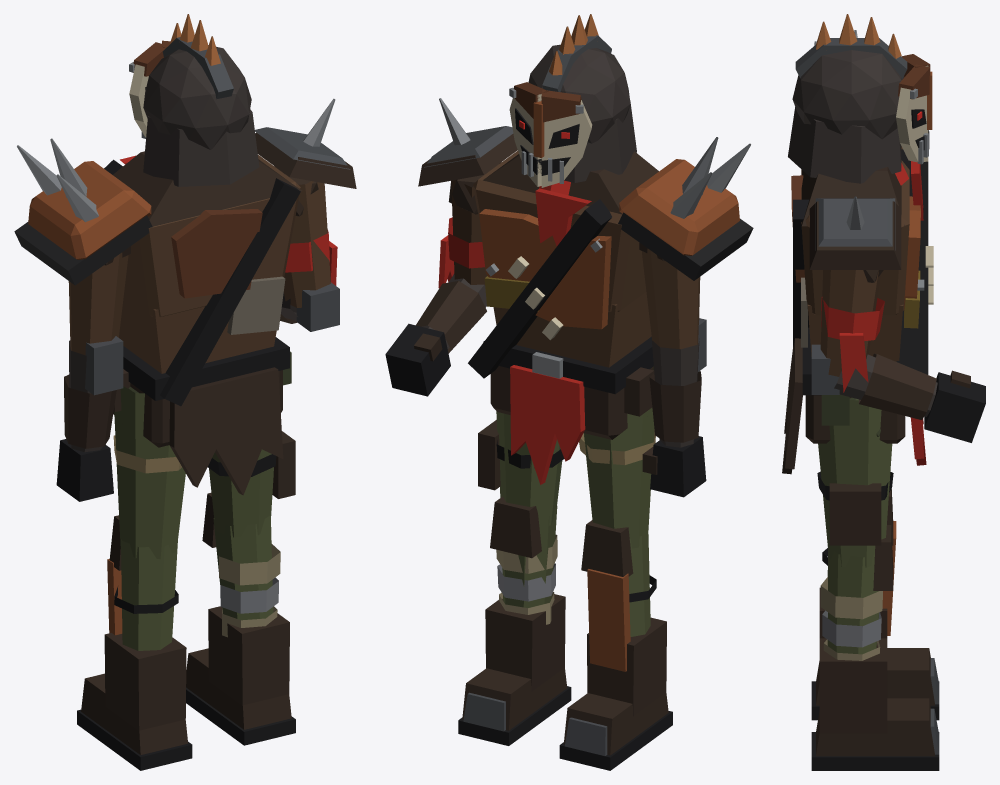
File: raider.fbx
3 views of the same model, side by side, from view 1: azimuth 30°, elevation 25°; view 2: azimuth 150°, elevation 25°; view 3: azimuth 270°, elevation 25° (orthographic). The views are drawn at different scales.
Parts seen in each view (by area): view 1: Torso, Leg_L, Arm_L, Leg_R, Head, Arm_R; view 2: Torso, Leg_L, Arm_L, Leg_R, Head, Arm_R; view 3: Leg_R, Arm_R, Torso, Head, Leg_L.
Boxes of the visible parts, box(x1,y1,x2,y2) form: Torso: box(104, 151, 302, 495); Leg_L: box(77, 386, 192, 770); Arm_L: box(14, 138, 152, 501); Leg_R: box(186, 431, 295, 745); Head: box(129, 14, 259, 186); Arm_R: box(255, 98, 356, 331); Torso: box(468, 150, 658, 484); Leg_L: box(559, 366, 672, 770); Arm_L: box(618, 137, 753, 497); Leg_R: box(458, 411, 571, 745); Head: box(509, 14, 636, 187); Arm_R: box(385, 98, 517, 396); Leg_R: box(811, 397, 939, 770); Arm_R: box(809, 196, 985, 442); Torso: box(782, 146, 933, 474); Head: box(788, 14, 932, 183); Leg_L: box(811, 489, 939, 720).
Bounding box in the file's own units: 0.8643 × 1.99 × 0.5115.
